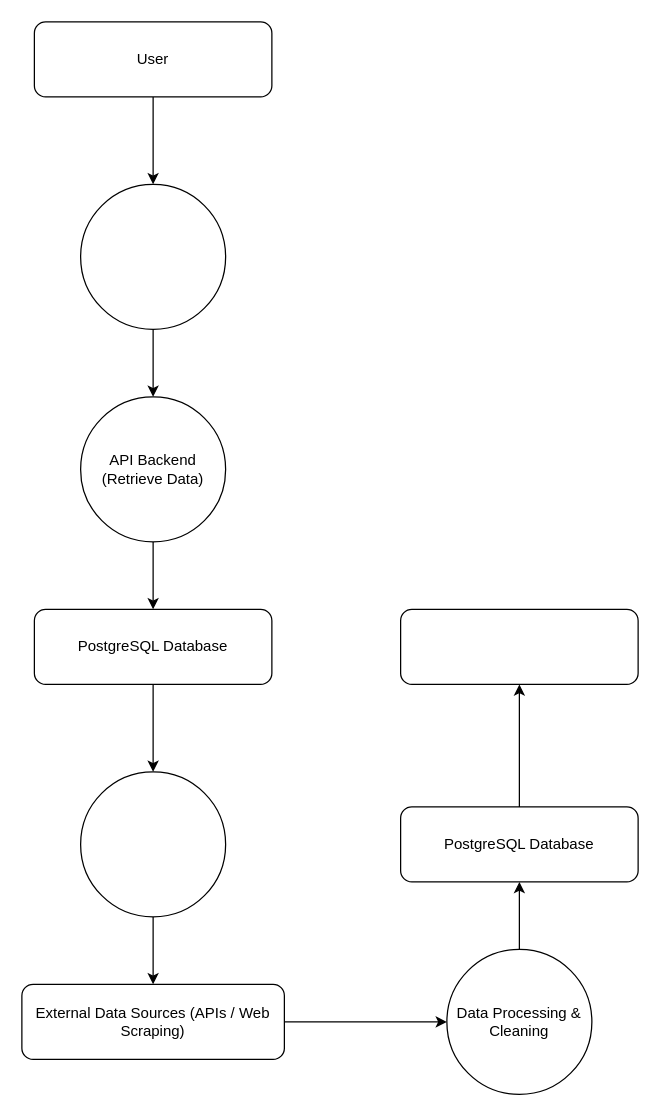
Some shapes in this 660 by 1116 pixel diagram are drawn without their labels. The centre of each missing label's shape, as x and y in pixels:
"Data Request / Search" belongs at point 152,256.
"ETL Pipeline (Extract, Transform, Load)" belongs at point 152,844.
"Frontend Display (Charts / UI)" belongs at point 518,646.
